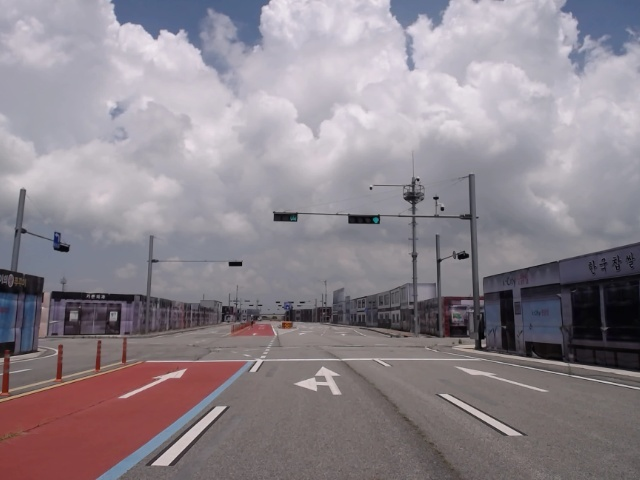straight_green_4: (347, 215, 381, 225)
